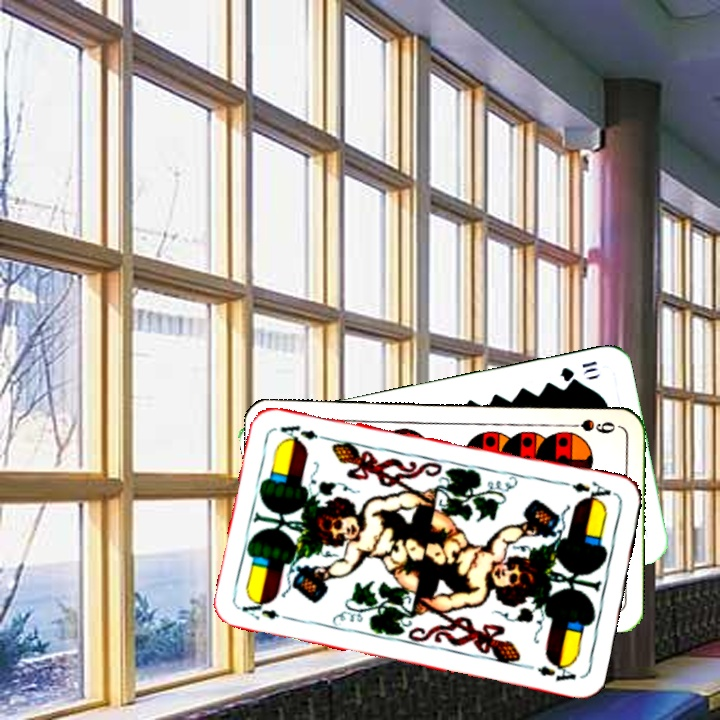EA: (568, 477, 617, 506), (237, 595, 282, 623)
G10: (556, 357, 599, 384)
S9: (560, 415, 618, 436)
